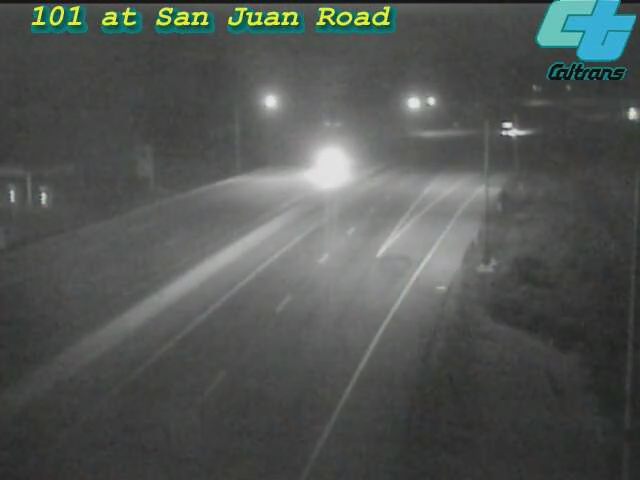vehicle: (288, 124, 368, 204), (494, 102, 544, 152)
